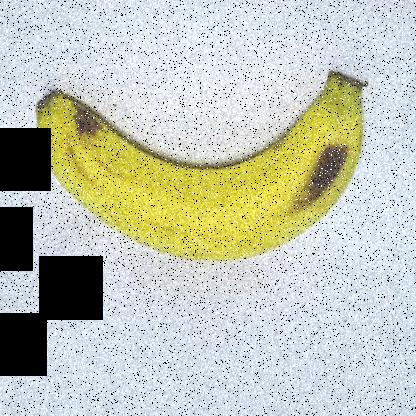freshripe: (19, 53, 378, 279)
